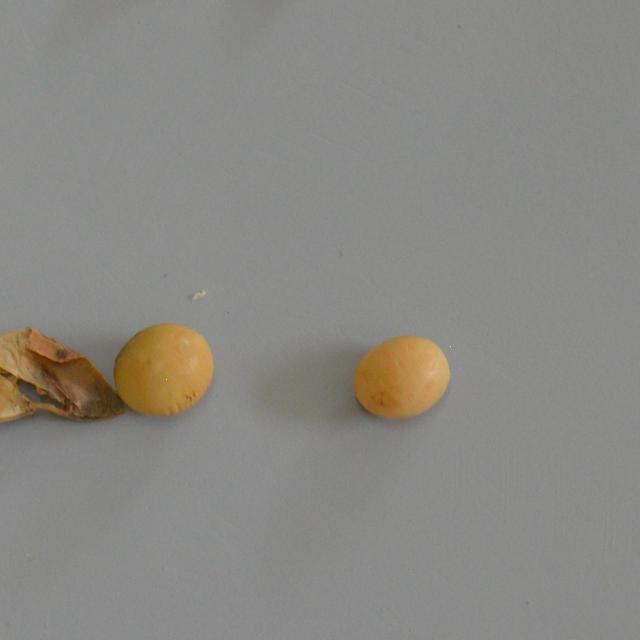cuerpos_extranos: (0, 322, 124, 428), (348, 328, 448, 422), (114, 324, 214, 416)
